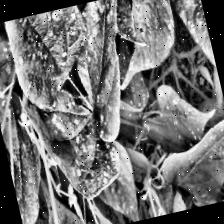Bean Rust: (21, 80, 127, 214), (64, 0, 154, 149), (0, 43, 64, 224), (0, 4, 99, 110), (132, 76, 220, 166), (110, 0, 186, 85), (162, 0, 220, 91)
